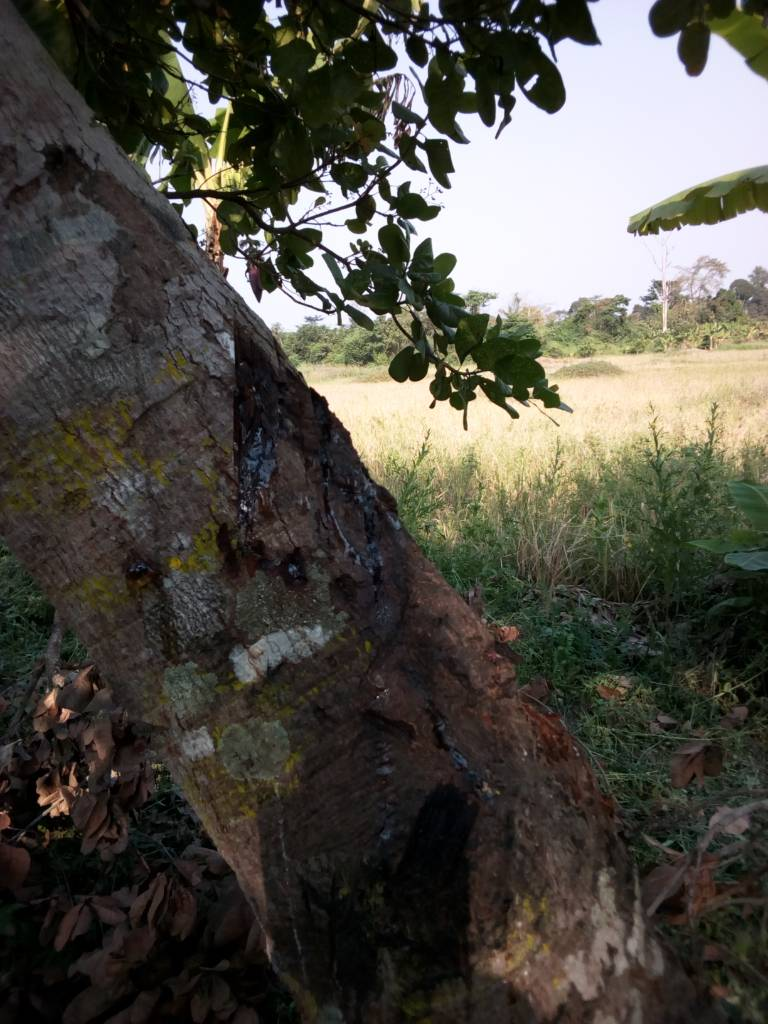Gommose: (222, 328, 416, 589)
